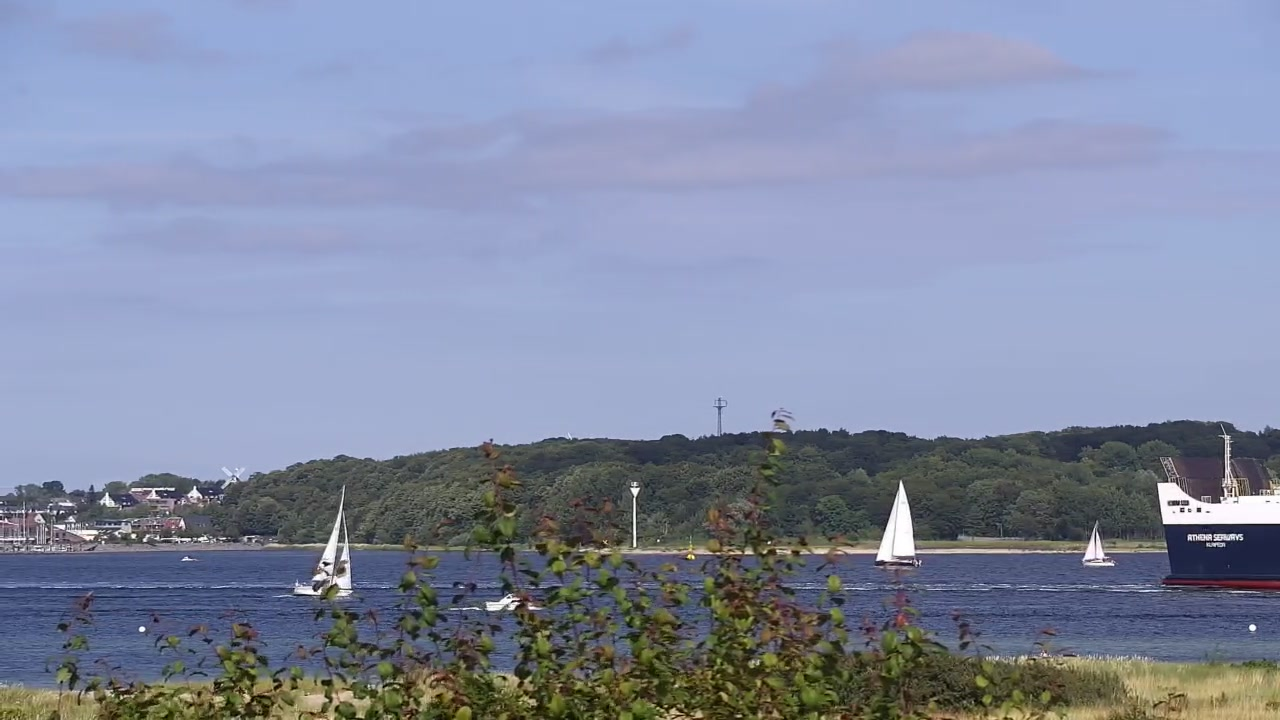sea: (1155, 423, 1280, 589), (290, 483, 353, 597), (873, 478, 922, 571), (1082, 519, 1116, 566), (484, 593, 534, 612), (181, 555, 195, 561)
